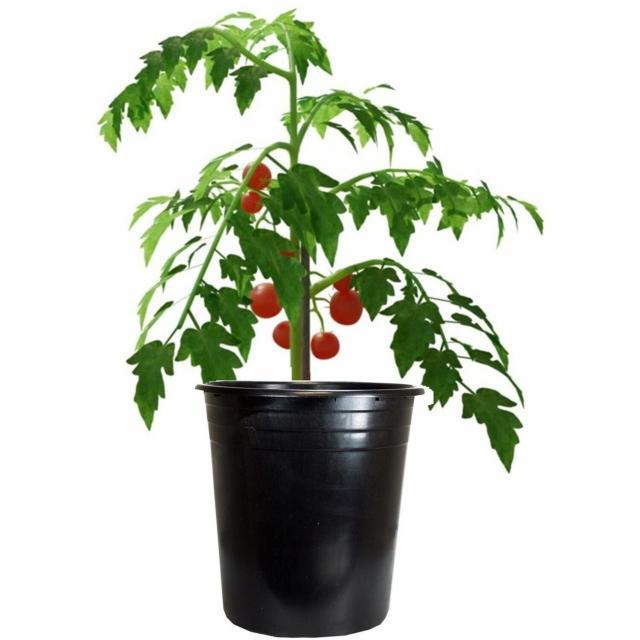tomato: (95, 10, 546, 473)
